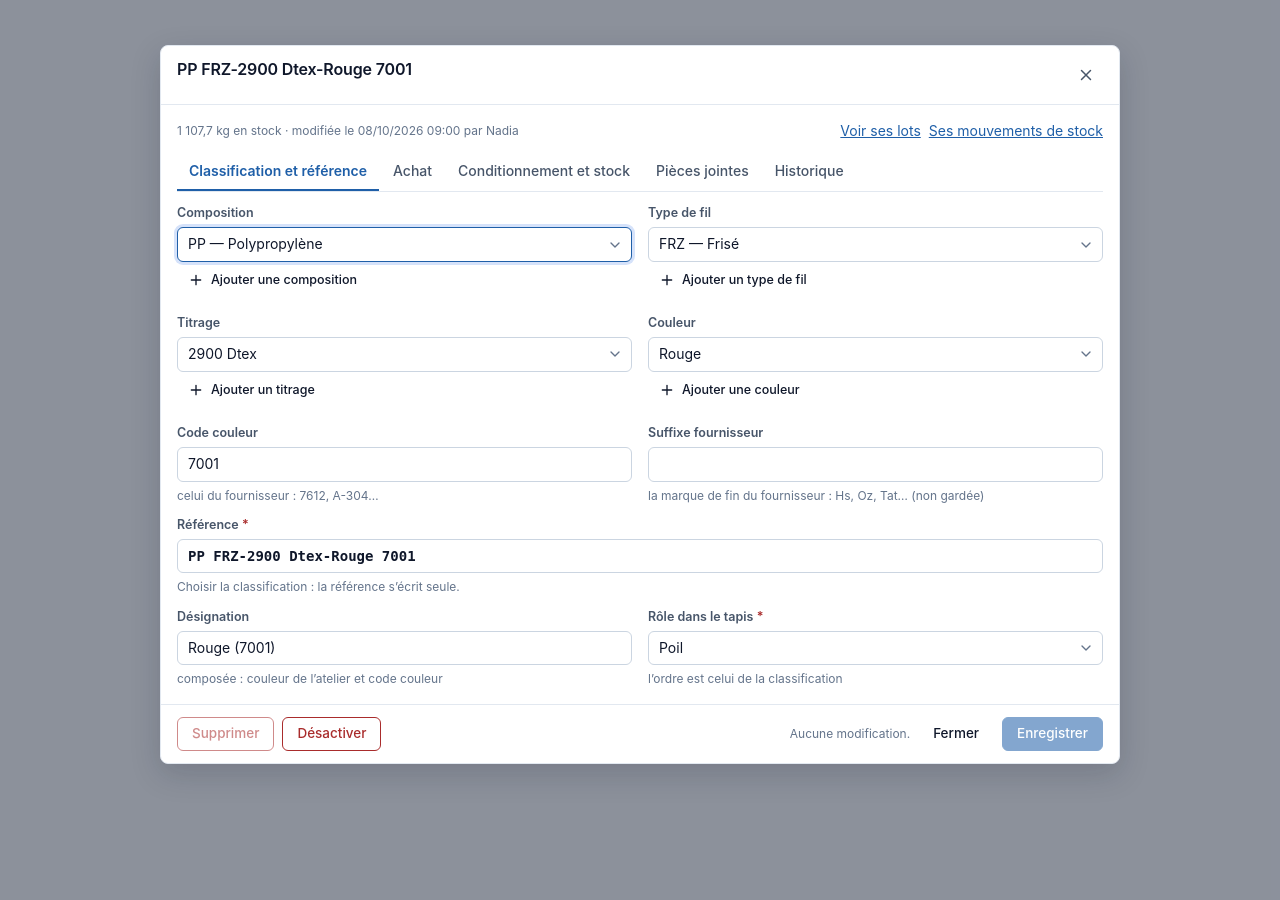
Test: Fiche matière › désactiver envoie la fiche enregistrée, état changé seulement ; grisé tant qu’une saisie est en cours
This screenshot has width=1280, height=900.
Type " bis" into the field labelled "Désignation" at (404, 648), box [177, 631, 632, 665]
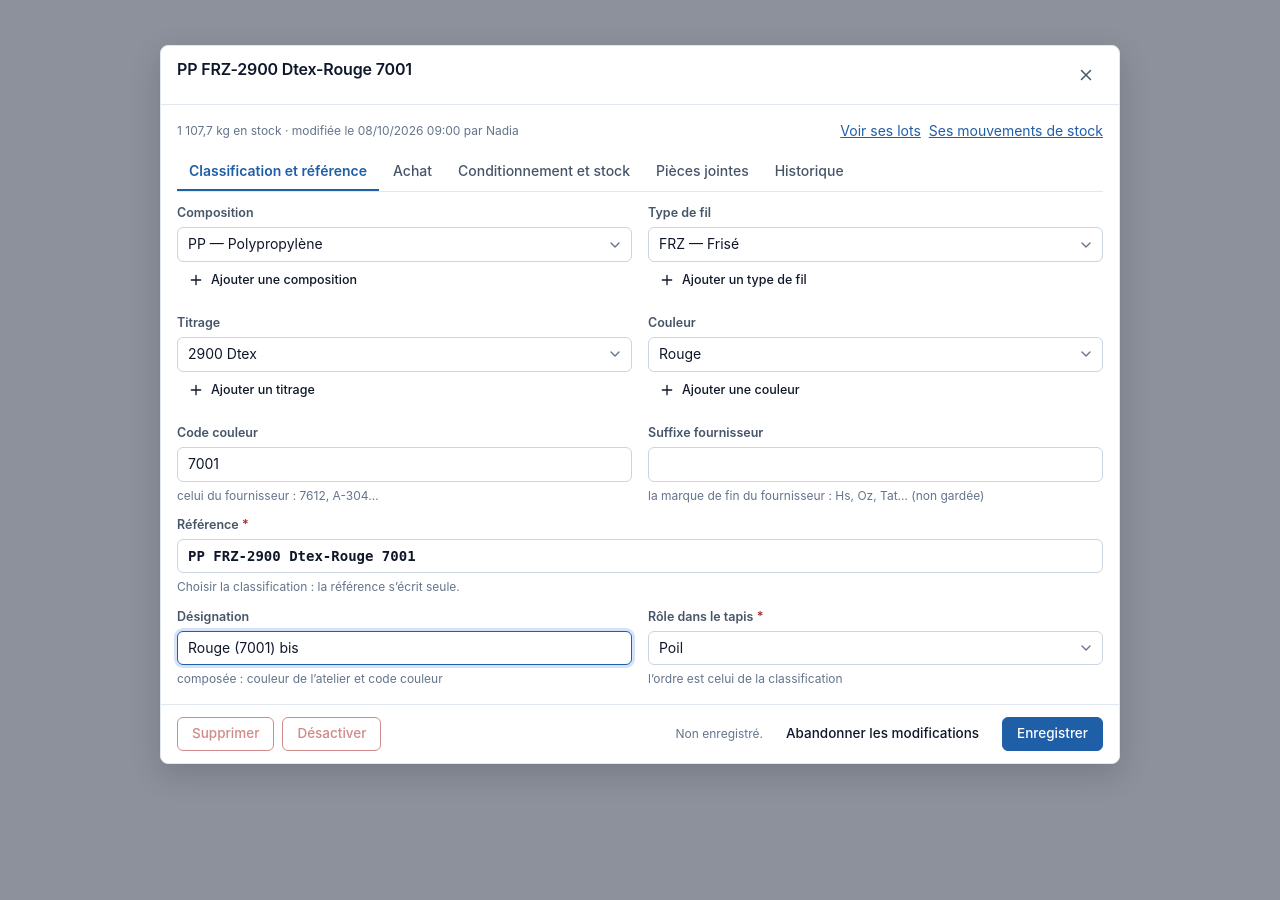
Expected: the button "Désactiver" has attribute data-raison="Enregistrer d’abord les changements", [282, 717, 382, 751]
Replace the text in the field labelled "Désignation" with "Rouge (7001)" at (404, 648), box [177, 631, 632, 665]
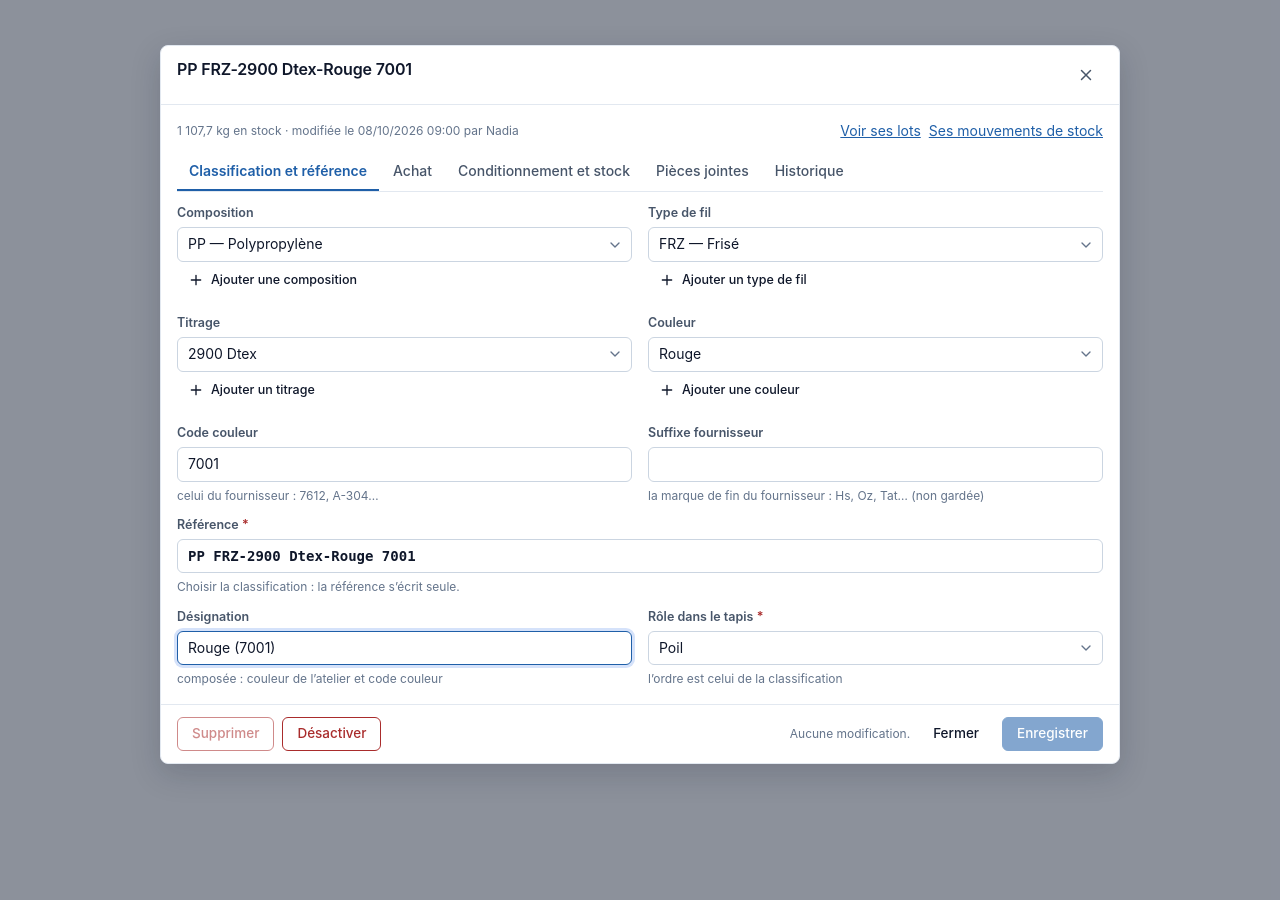
Click the button "Désactiver" at (332, 734), box [282, 717, 382, 751]
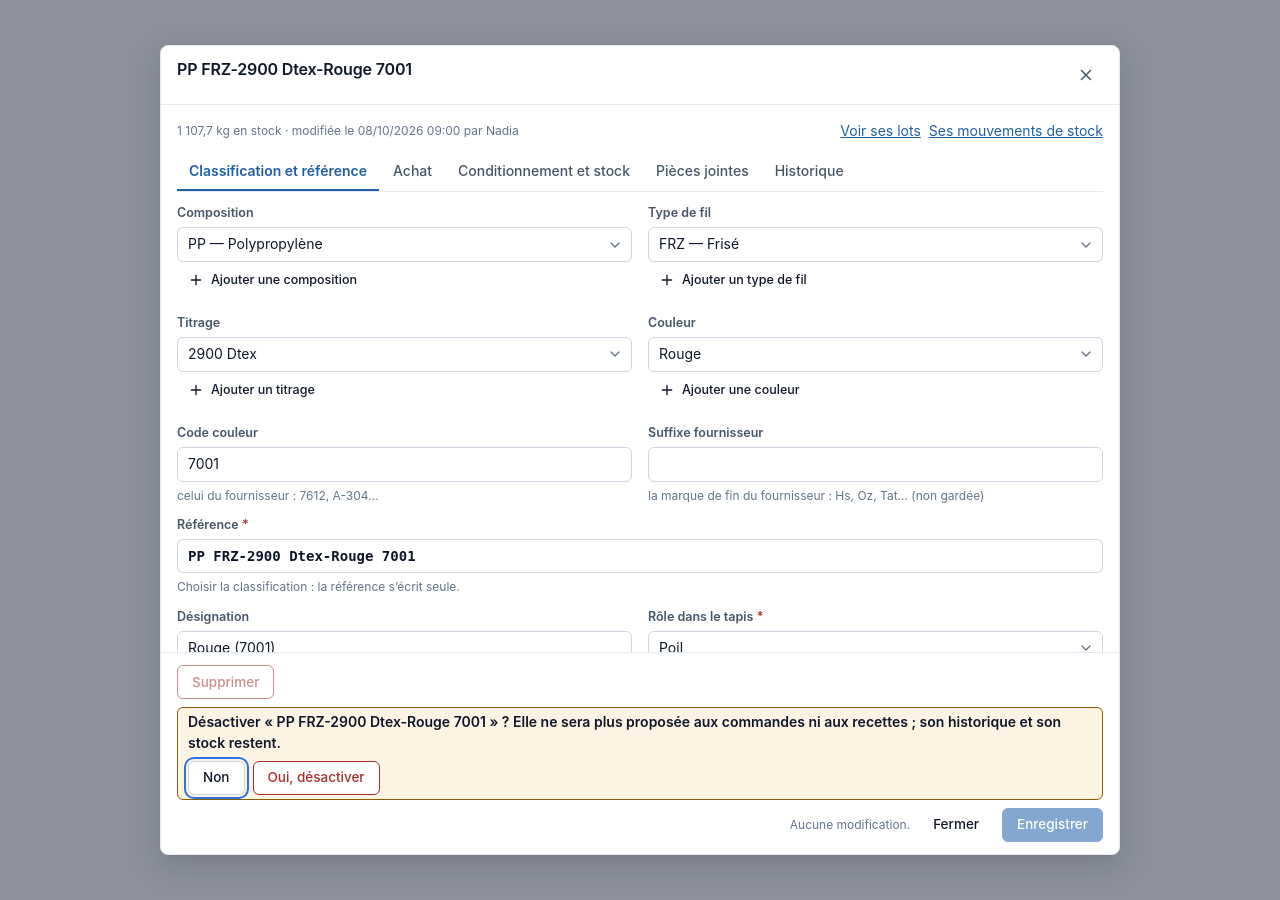
Click the button "Oui, désactiver" at (316, 778), box [252, 761, 380, 795]
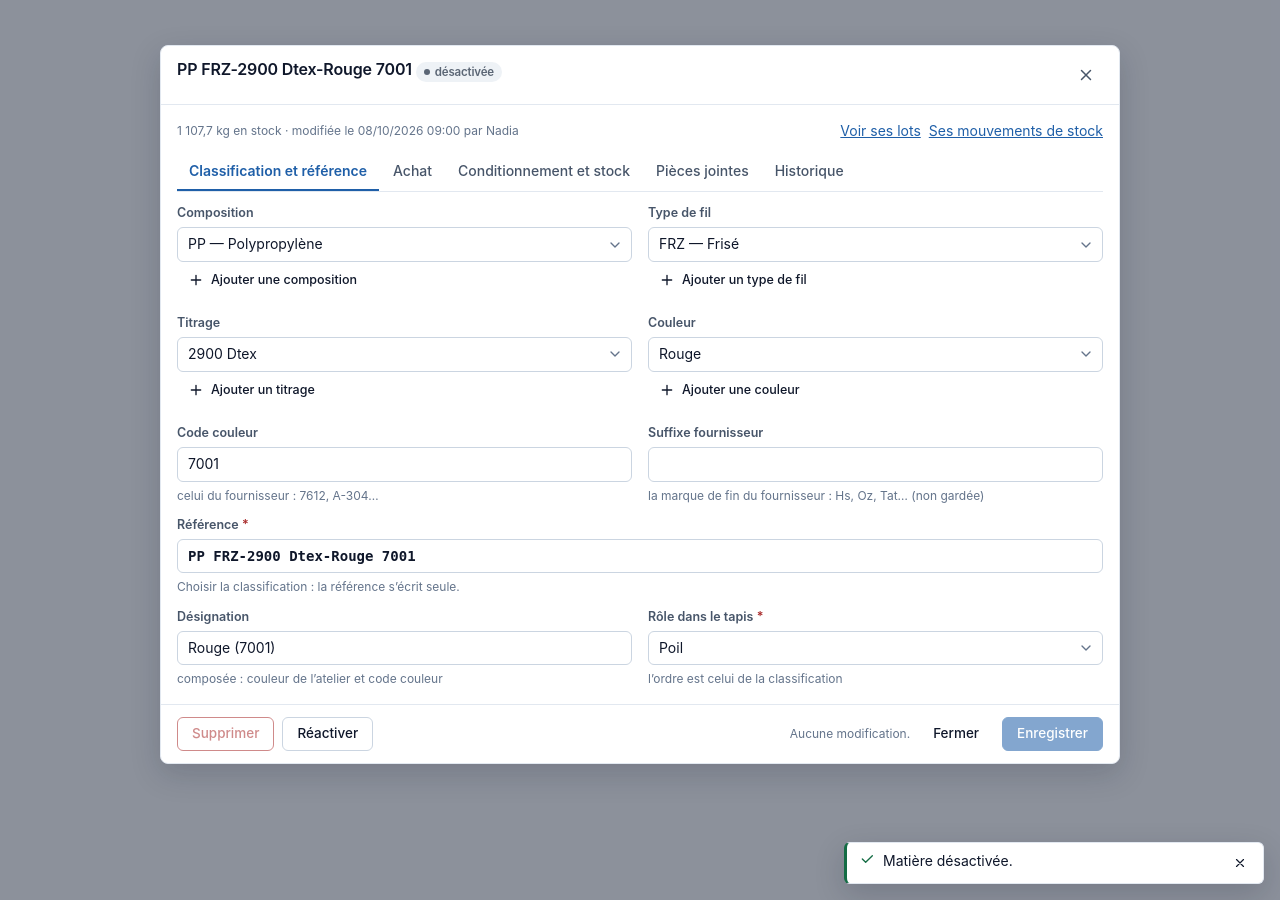
Expected: the text "Matière désactivée." is shown, [883, 852, 1013, 869]
